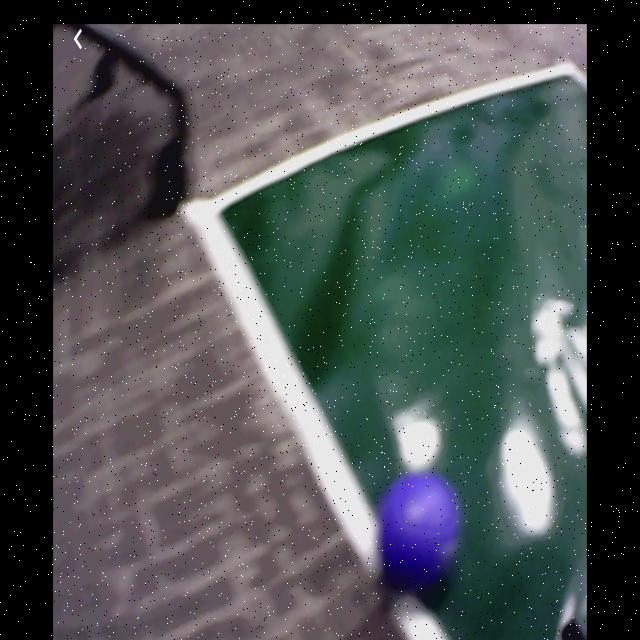ball: (380, 476, 464, 593)
